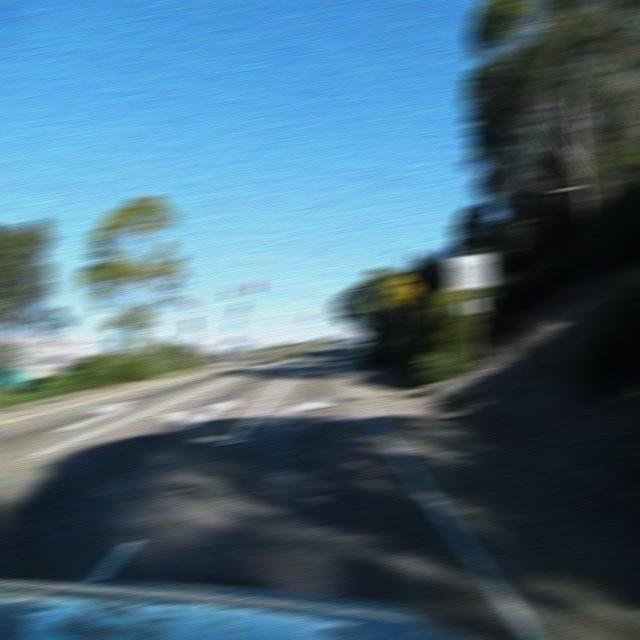pedestrianCrossing: (384, 270, 421, 309)
